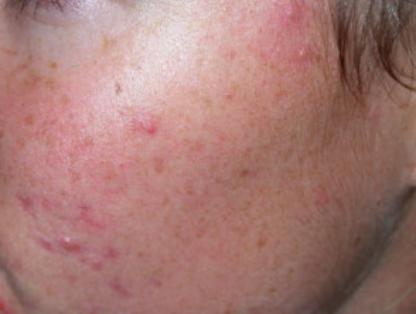Nodules: (134, 113, 167, 144), (280, 4, 301, 26)
Papules: (86, 254, 108, 275)
acne scar: (18, 184, 34, 216), (14, 109, 40, 128), (69, 194, 94, 213), (235, 163, 256, 182), (102, 241, 123, 260), (111, 78, 127, 100), (109, 272, 125, 293), (46, 54, 64, 70)
pustules: (54, 229, 83, 253), (289, 44, 311, 59)
